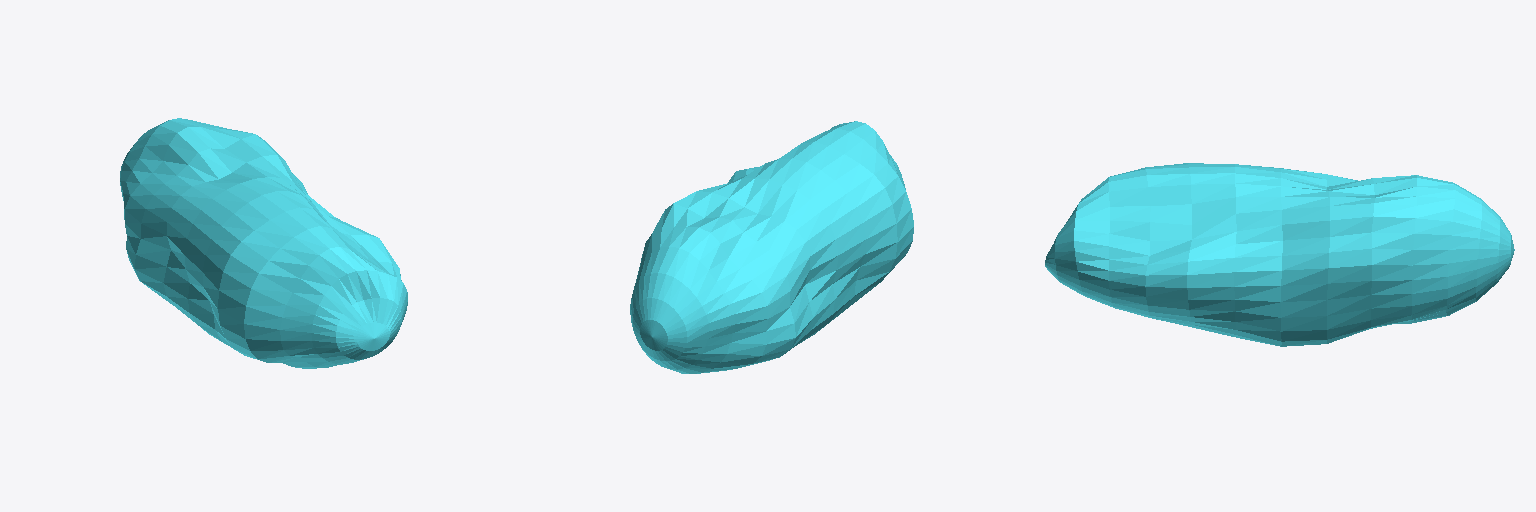
File: bacteria.obj
The picture shows the model from 3 angles: view 1: azimuth 30°, elevation 25°; view 2: azimuth 150°, elevation 25°; view 3: azimuth 270°, elevation 25°; orthographic projection.
Parts seen in each view (by area): view 1: Bacteria_Sphere.001; view 2: Bacteria_Sphere.001; view 3: Bacteria_Sphere.001.
Boxes of the visible parts, box(x1,y1,x2,y2) form: Bacteria_Sphere.001: box(120, 118, 407, 368); Bacteria_Sphere.001: box(630, 121, 913, 373); Bacteria_Sphere.001: box(1045, 163, 1514, 346).
Bounding box in the file's own units: 2.42 × 2.25 × 5.86.